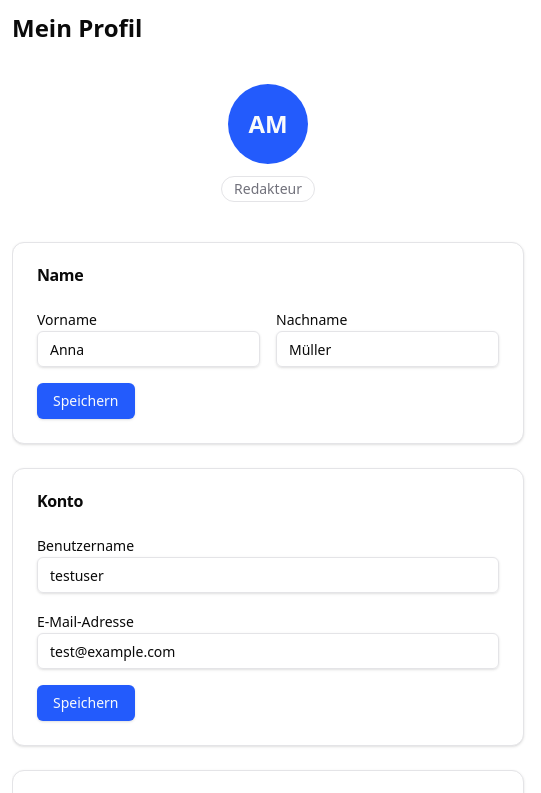
Test: ProfilePage — Konto section › shows email validation error for invalid email
This screenshot has width=541, height=793.
Step 1. Replace the text in the field showing "test@example.com" below "E-Mail-Adresse" with "not-an-email" → (268,651), box [37,633,499,669]
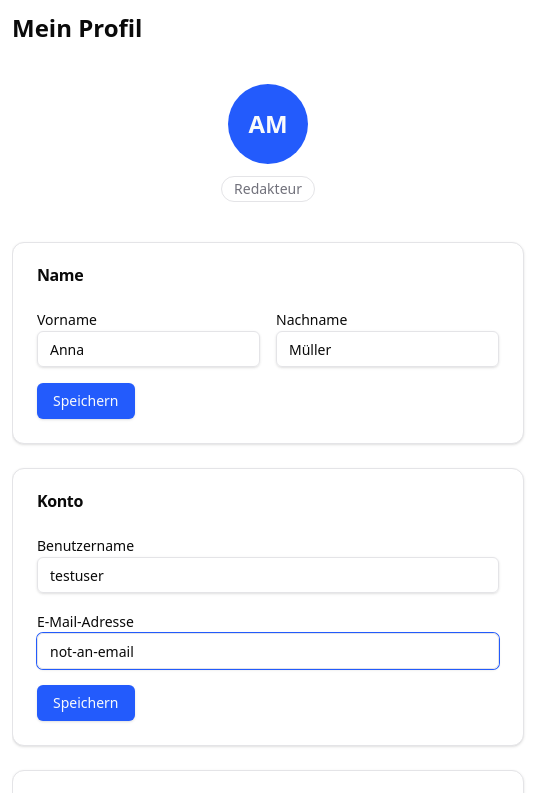
Step 2. Click the button "Speichern" below "E-Mail-Adresse" → (86,703), box [37,685,134,721]
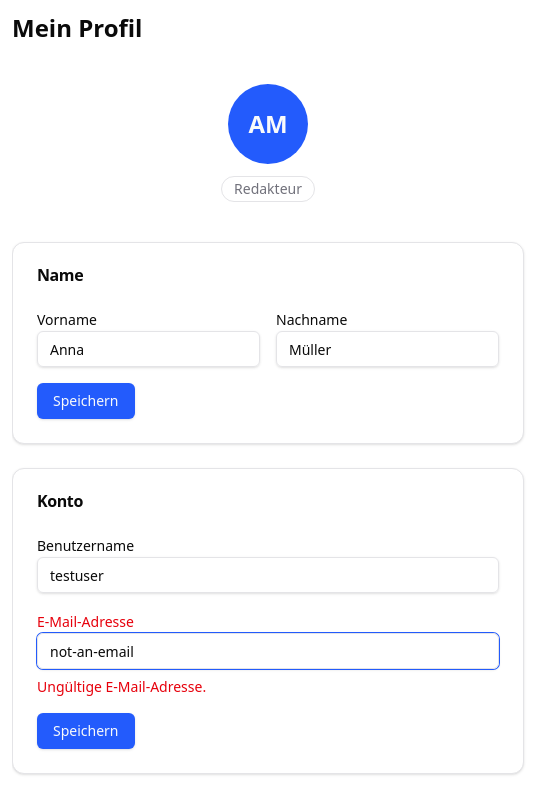
Result: the text "Ungültige E-Mail-Adresse." is shown at [37,677,206,696]
